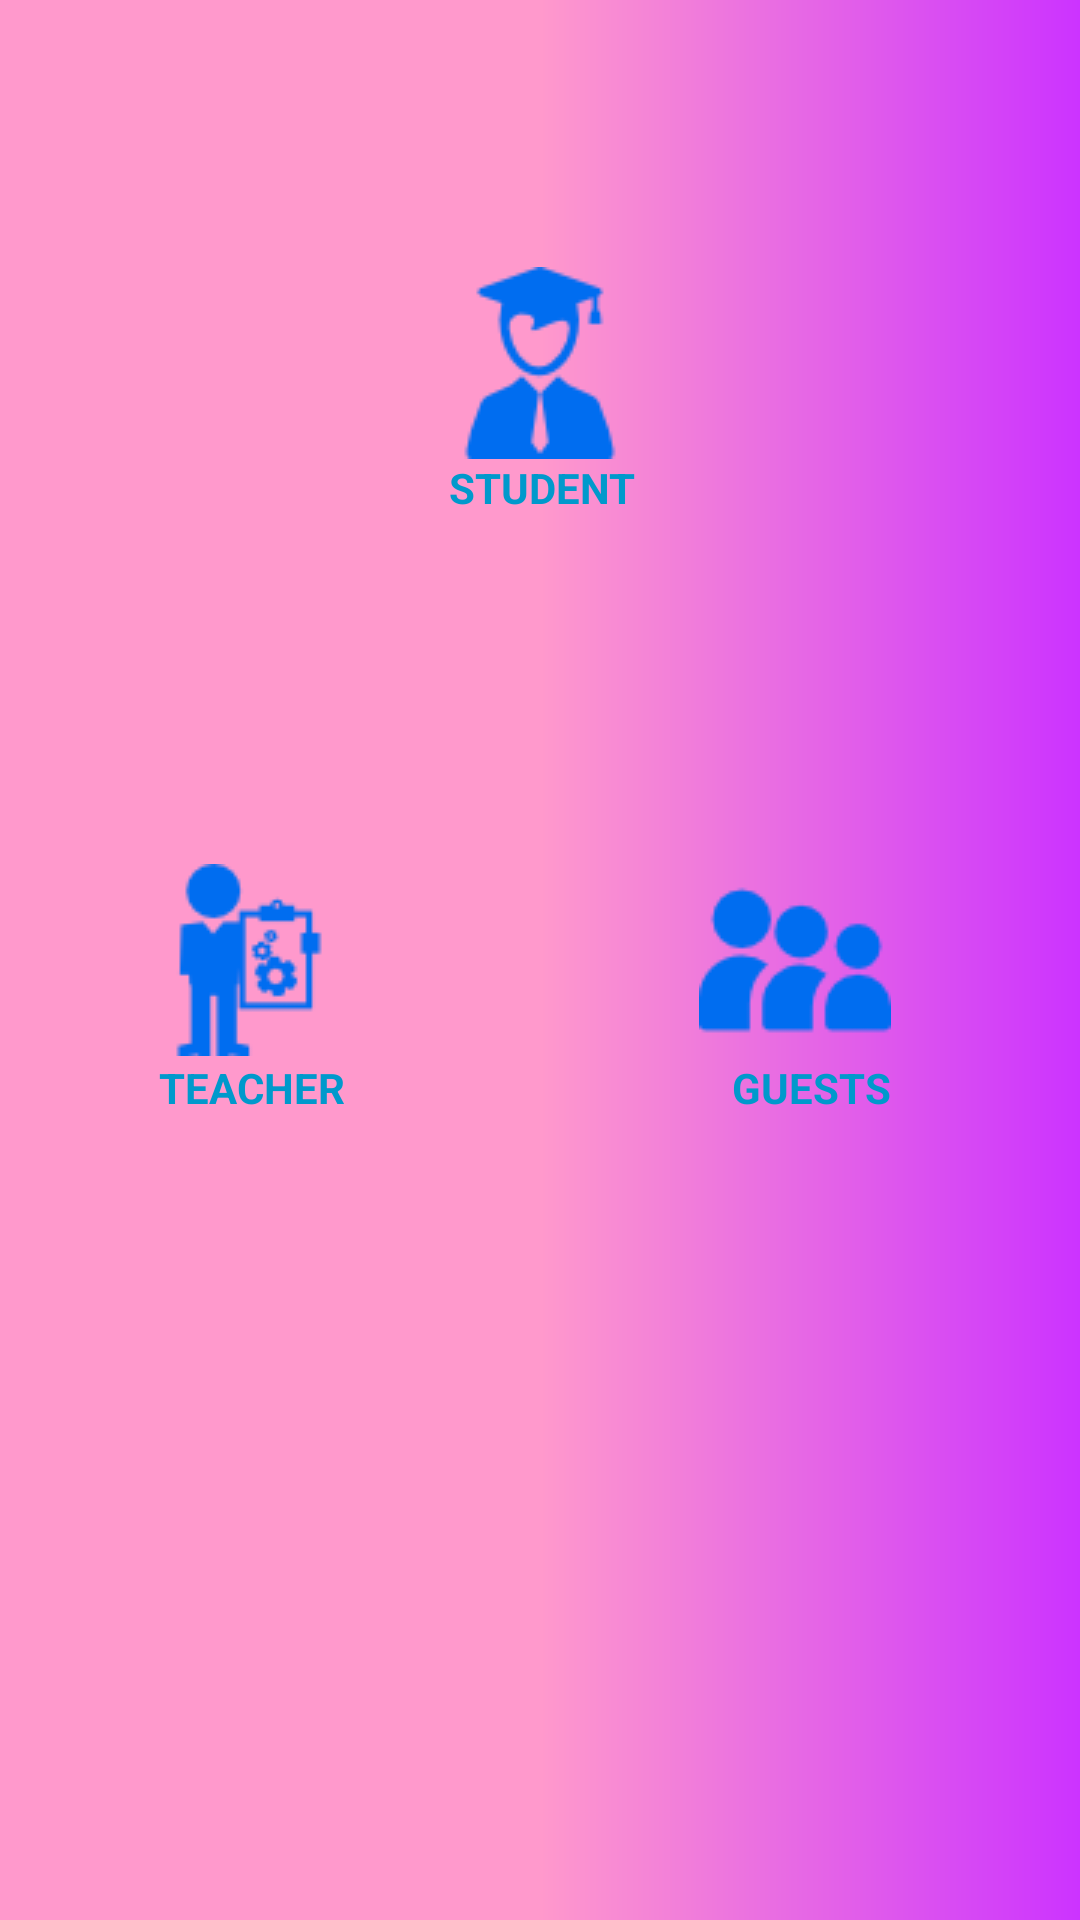

Icon click points for this 1080px x 1920px phone screenshot, format (x,y):
family: (795,960)
